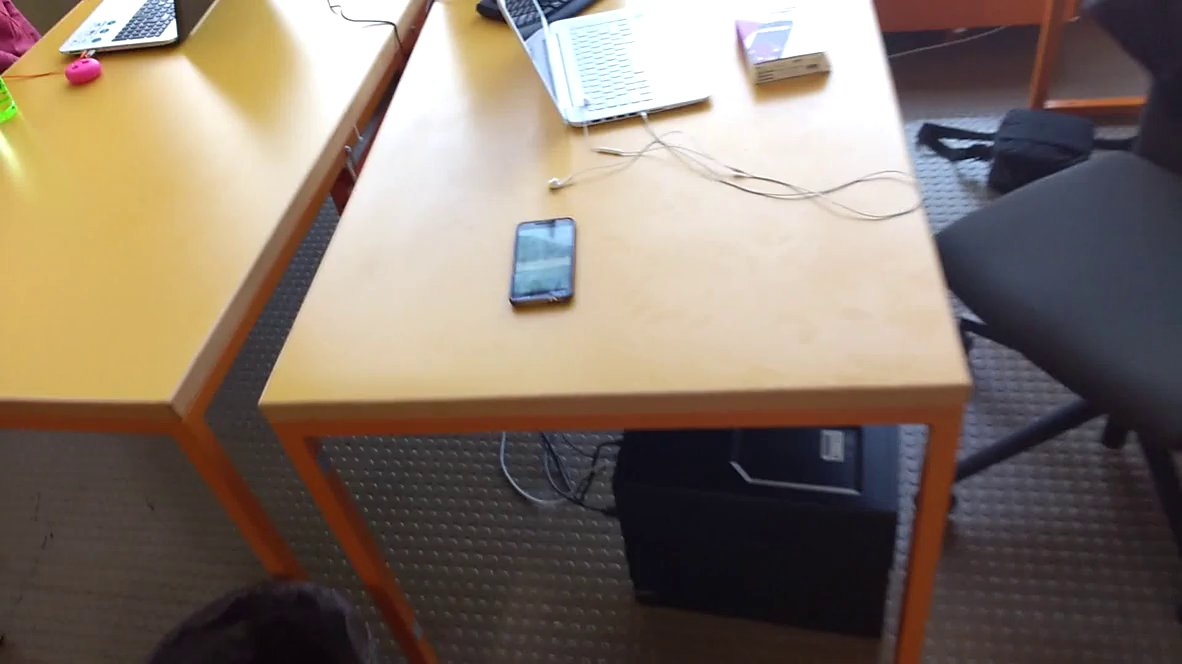phone: (505, 212, 589, 319)
